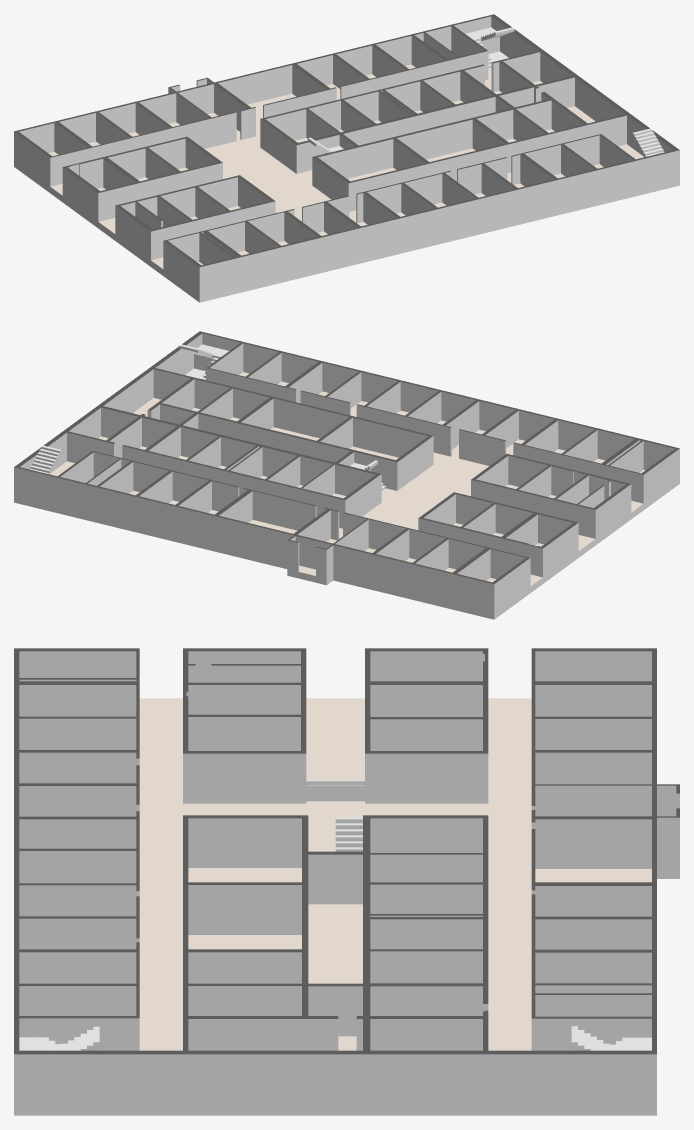
3 renders of one model, top to bottom at view 1: azimuth 30°, elevation 25°; view 2: azimuth 150°, elevation 25°; view 3: azimuth 270°, elevation 25°, orthographic. The views are drawn at different scales.
Parts seen in each view (by area): view 1: 1ST FLOORCIT, 3RD FLOORCIT, 4TH FLOORCIT, 2ND FLOORCIT, 116227; view 2: 1ST FLOORCIT, 3RD FLOORCIT, 2ND FLOORCIT, 4TH FLOORCIT, 116227; view 3: 4TH FLOORCIT, 1ST FLOORCIT, 2ND FLOORCIT, 116227, 3RD FLOORCIT.
Boxes of the visible parts, box(x1,y1,x2,y2) form: 1ST FLOORCIT: box(14, 14, 678, 302); 3RD FLOORCIT: box(14, 15, 679, 299); 4TH FLOORCIT: box(15, 14, 679, 301); 2ND FLOORCIT: box(23, 15, 677, 302); 116227: box(51, 64, 626, 268); 1ST FLOORCIT: box(14, 331, 679, 619); 3RD FLOORCIT: box(14, 333, 679, 617); 2ND FLOORCIT: box(16, 333, 679, 619); 4TH FLOORCIT: box(14, 331, 678, 591); 116227: box(50, 372, 594, 585); 4TH FLOORCIT: box(14, 649, 656, 1115); 1ST FLOORCIT: box(14, 648, 679, 1053); 2ND FLOORCIT: box(14, 648, 656, 1053); 116227: box(139, 698, 651, 1050); 3RD FLOORCIT: box(14, 648, 656, 1053).
Size of the model in its own units: 52.46 by 4.19 by 36.4.
